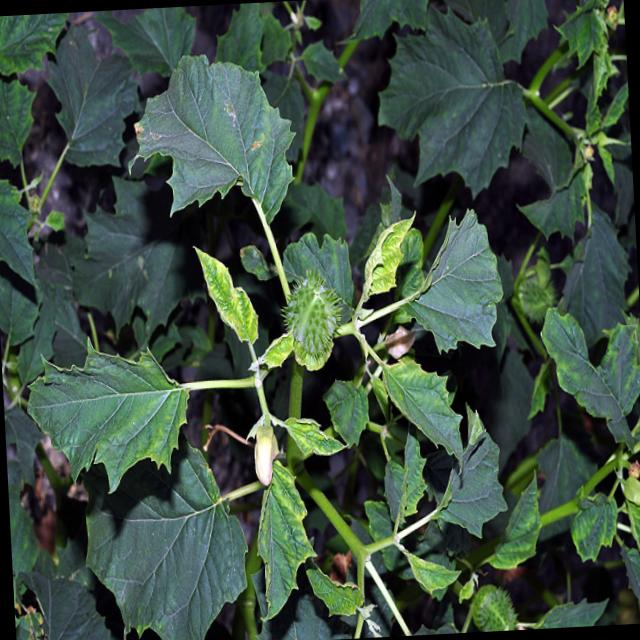Poisonous-Datura_Stramonium: (27, 338, 640, 640), (44, 0, 631, 232), (268, 258, 374, 396)
